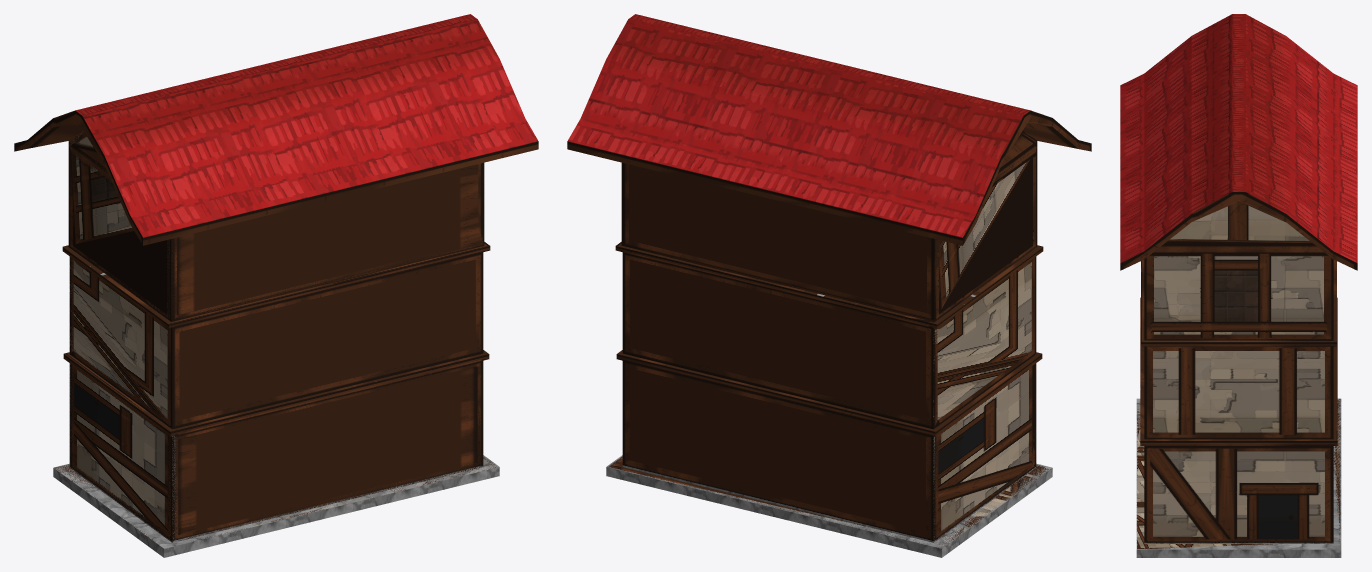
The model's file is House Base3_B.fbx.
The picture shows the model from 3 angles, left to right: view 1: azimuth 30°, elevation 25°; view 2: azimuth 150°, elevation 25°; view 3: azimuth 270°, elevation 25°; orthographic projection. The views are drawn at different scales.
Parts seen in each view (by area): view 1: House Base 3b_col, House Base 3b; view 2: House Base 3b_col, House Base 3b; view 3: House Base 3b, House Base 3b_col.
Boxes of the visible parts, box(x1,y1,x2,y2) form: House Base 3b_col: box(54, 131, 499, 547); House Base 3b: box(14, 14, 538, 557); House Base 3b_col: box(607, 135, 1051, 548); House Base 3b: box(567, 14, 1091, 557); House Base 3b: box(1120, 14, 1357, 557); House Base 3b_col: box(1136, 201, 1341, 549).
Size of the model in its own units: 1520 by 1512 by 857.
